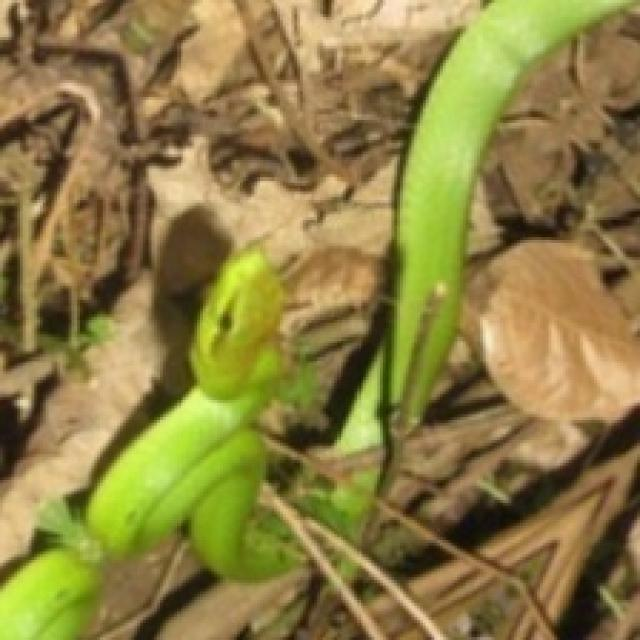red-tailed green ratsnake: (335, 0, 632, 481), (0, 246, 280, 637)
